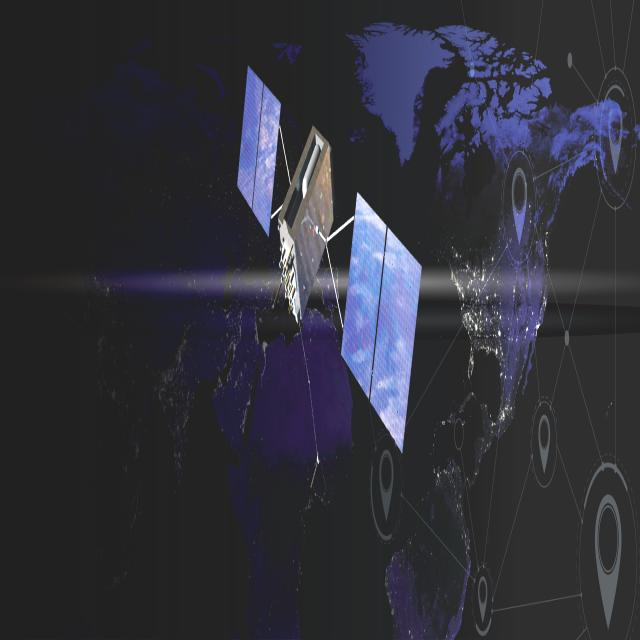medium_debris: (214, 64, 432, 457)
